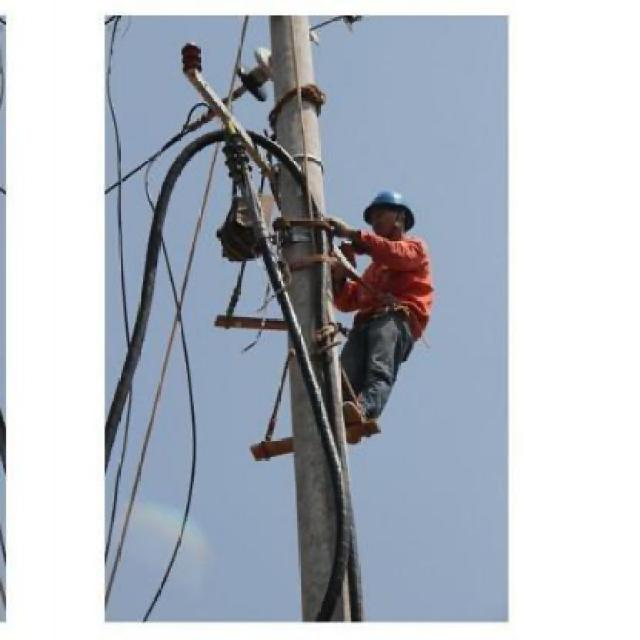helmet: (357, 185, 418, 243)
